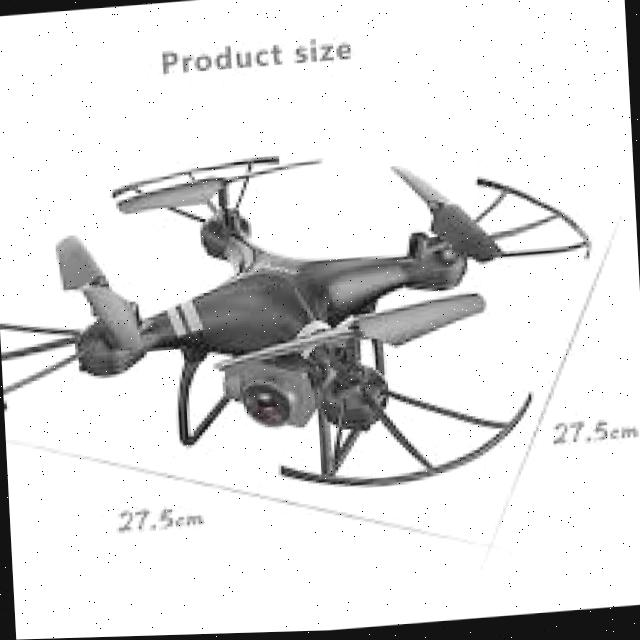drone: (0, 117, 617, 528)
